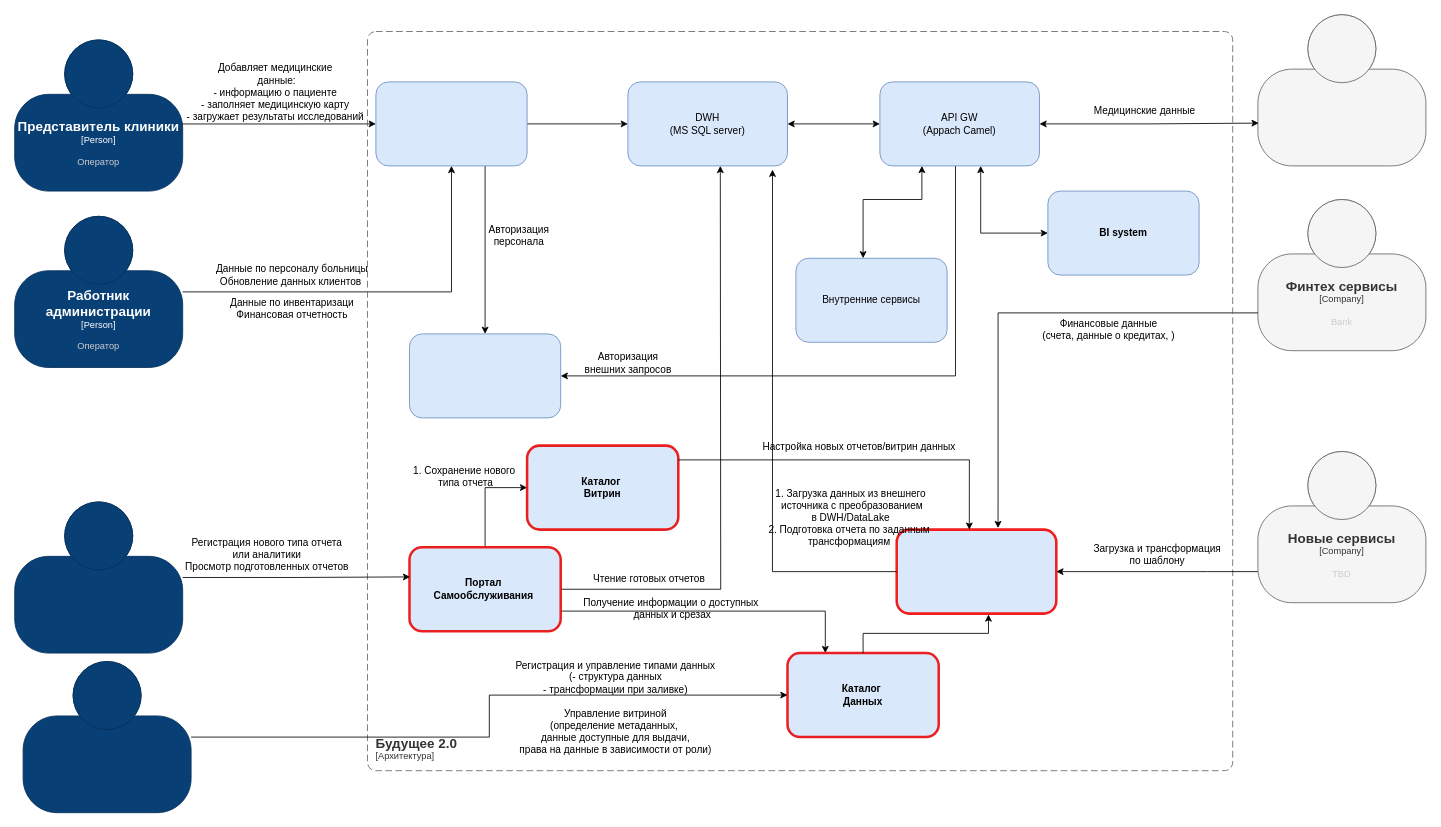
Image size: 1441x827. Some labels were removed from this diagram. The shapes that lost their labels are listed below. From the top down, each one's centre as x and y in pixels, then its label:
[1341,90]: ИИ сервисы [Company] AI service company
[451,123]: Портал для сотрудников (PowerBuilder)
[485,375]: KeyCloak
[98,577]: Бизнес пользователи [Person] Оператор
[976,571]: ETL, Data Orchestration (Nifi, AirFlow)
[106,737]: Администратор данных [Person] Оператор
